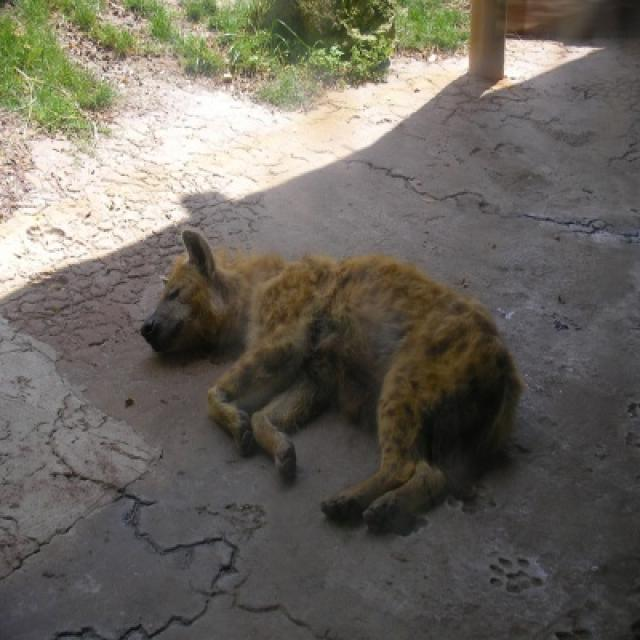hyena: (136, 230, 525, 536)
